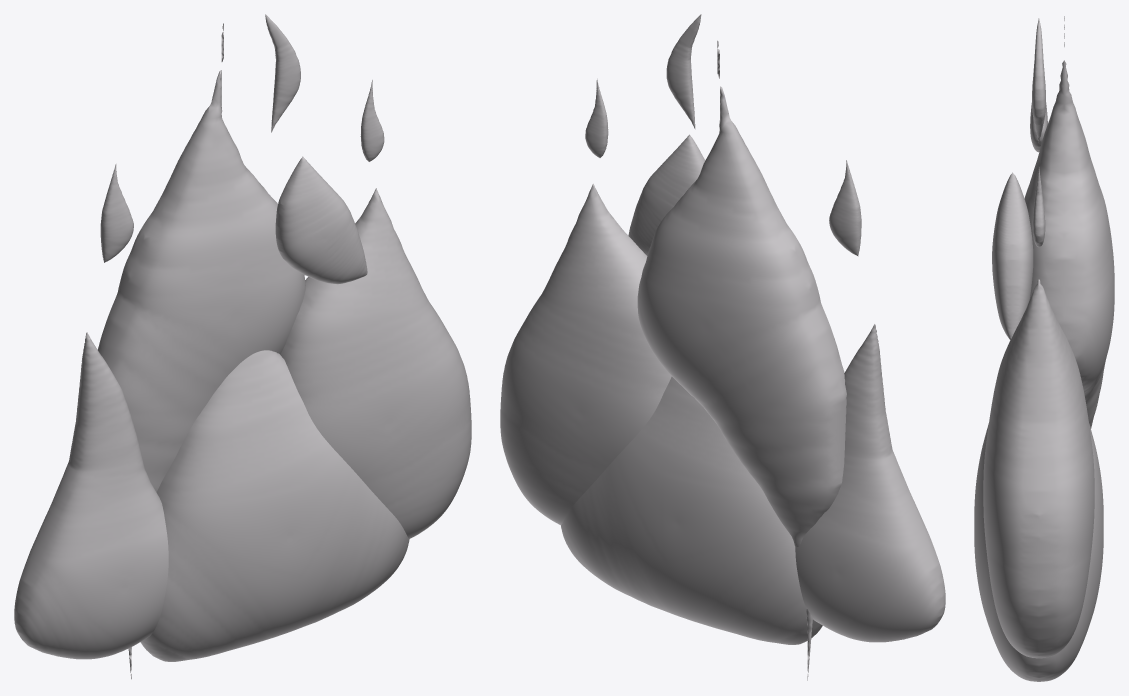
Rendered from TestFlame.fbx.
3 renders of one model, left to right at view 1: azimuth 30°, elevation 25°; view 2: azimuth 150°, elevation 25°; view 3: azimuth 270°, elevation 25°, orthographic. The views are drawn at different scales.
Parts seen in each view (by area): view 1: root (×8); view 2: root (×8); view 3: root (×7).
Part boxes in pixels (x1,y1,x2,y2): root (×8): (14, 14, 471, 679); root (×8): (500, 14, 945, 680); root (×7): (974, 16, 1114, 681).
Bounding box in the file's own units: 0.467 × 0.6442 × 0.1235.
8 materials, 8 textured.
